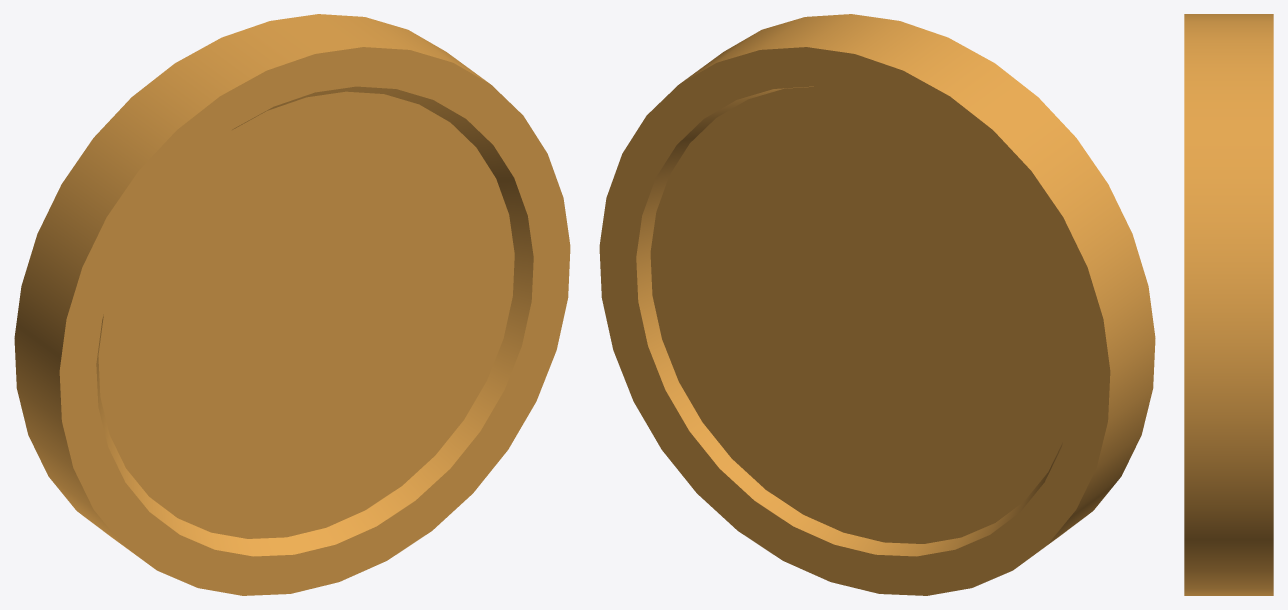
File: gold.fbx
3 renders of one model, left to right at view 1: azimuth 30°, elevation 25°; view 2: azimuth 150°, elevation 25°; view 3: azimuth 270°, elevation 25°, orthographic.
Parts seen in each view (by area): view 1: gold; view 2: gold; view 3: gold.
Part boxes in pixels (<box>): gold: <box>14,14,570,595</box>; gold: <box>599,14,1155,595</box>; gold: <box>1184,14,1273,595</box>.
Size of the model in its own units: 0.7192 by 0.7184 by 0.11.
